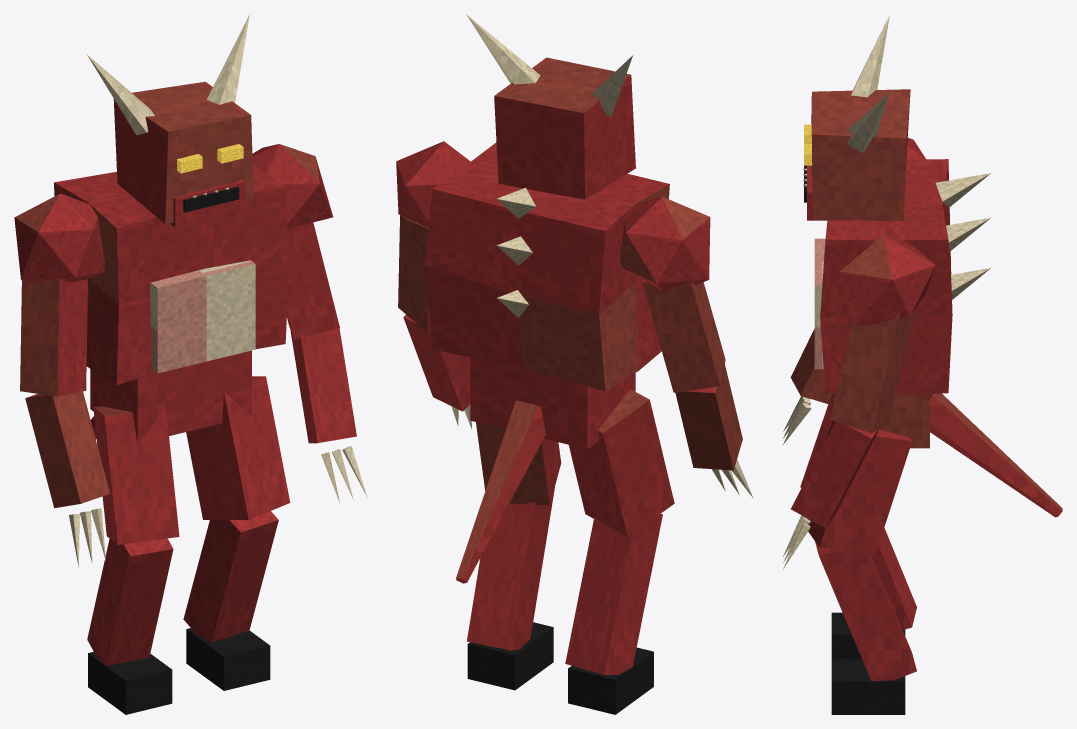
Rendered from enemy_demon.glb.
3 renders of one model, left to right at view 1: azimuth 30°, elevation 25°; view 2: azimuth 150°, elevation 25°; view 3: azimuth 270°, elevation 25°, orthographic. The views are drawn at different scales.
Parts seen in each view (by area): view 1: enemy_demon; view 2: enemy_demon; view 3: enemy_demon.
Part boxes in pixels (box(x1,y1,x2,y2)): enemy_demon: box(14, 14, 367, 714); enemy_demon: box(396, 14, 753, 714); enemy_demon: box(782, 14, 1062, 714).
Bounding box in the file's own units: 1.16 × 2.25 × 0.9107.
2 materials, 2 textured.
